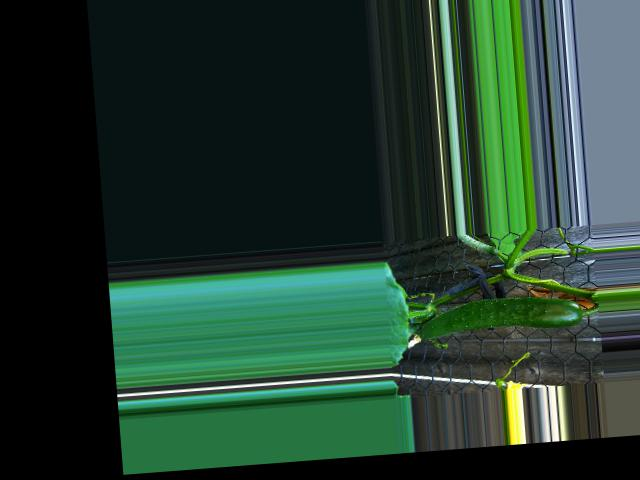cucumber: (418, 291, 583, 339)
